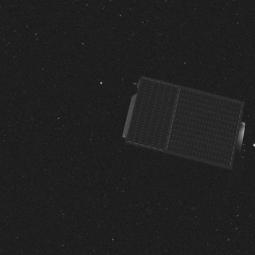cheops: (123, 76, 250, 167)
